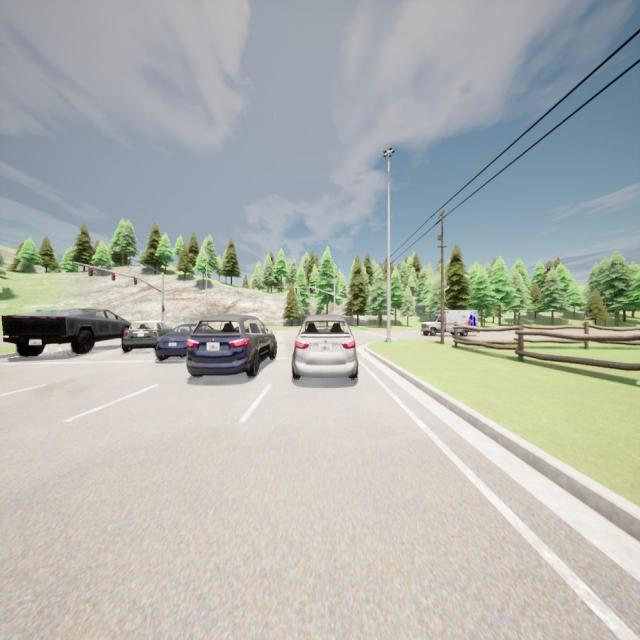Vehicle: (1, 299, 129, 368), (181, 314, 279, 379), (290, 314, 359, 381), (123, 313, 169, 364), (154, 319, 189, 363), (421, 310, 478, 336)
traffic_light: (88, 266, 94, 276), (134, 276, 138, 286), (112, 272, 116, 281), (162, 306, 165, 312)
